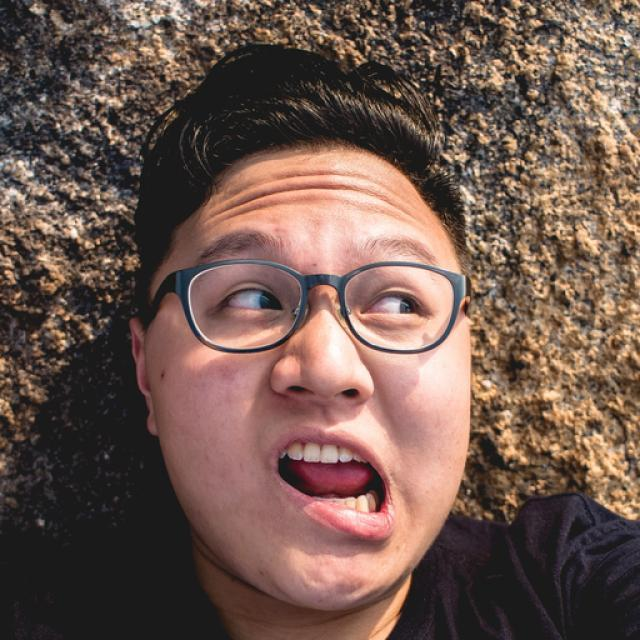disgust: (148, 132, 472, 602)
